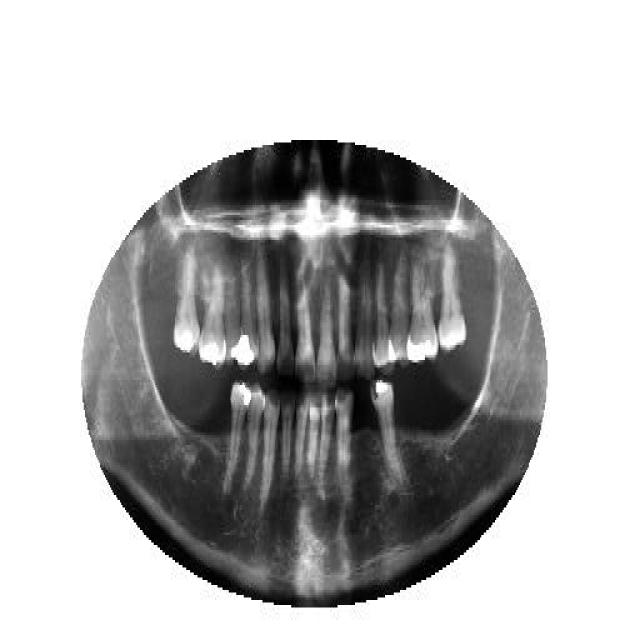Fillings: (368, 380, 404, 488), (407, 258, 438, 362), (198, 262, 226, 368), (174, 245, 200, 355), (225, 380, 251, 490), (238, 258, 258, 368)
